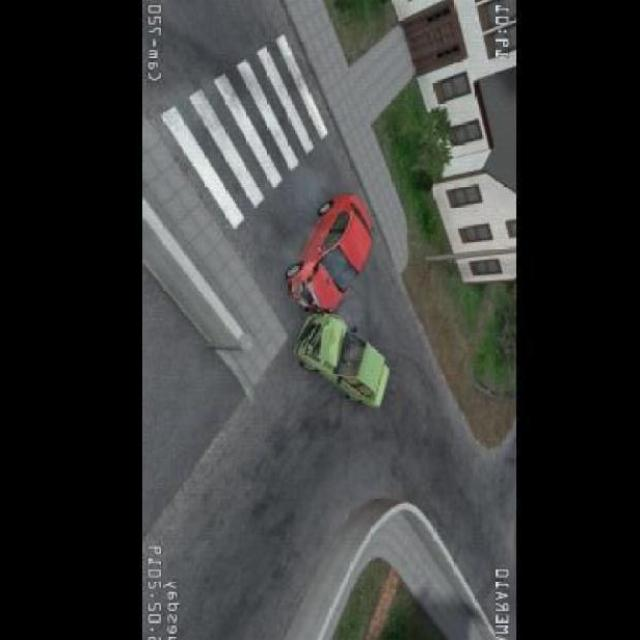accident: (281, 200, 375, 396)
